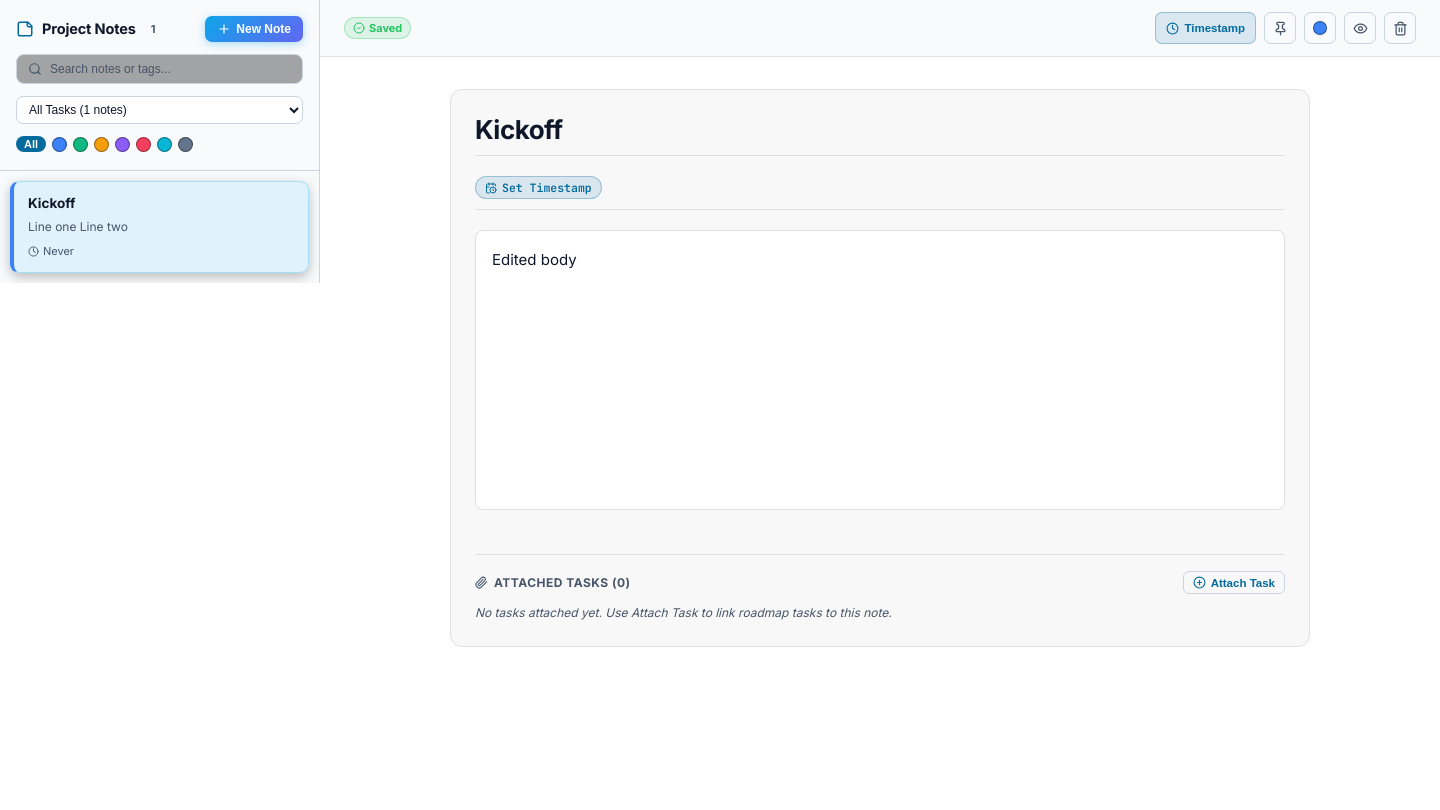
it: NotesView › commits only the edited field onto the latest plan, never a stale snapshot
Clear the field with class "note-contenteditable-surface": {"x": 880, "y": 370} [475,230,1285,510]
Wait 400 ms
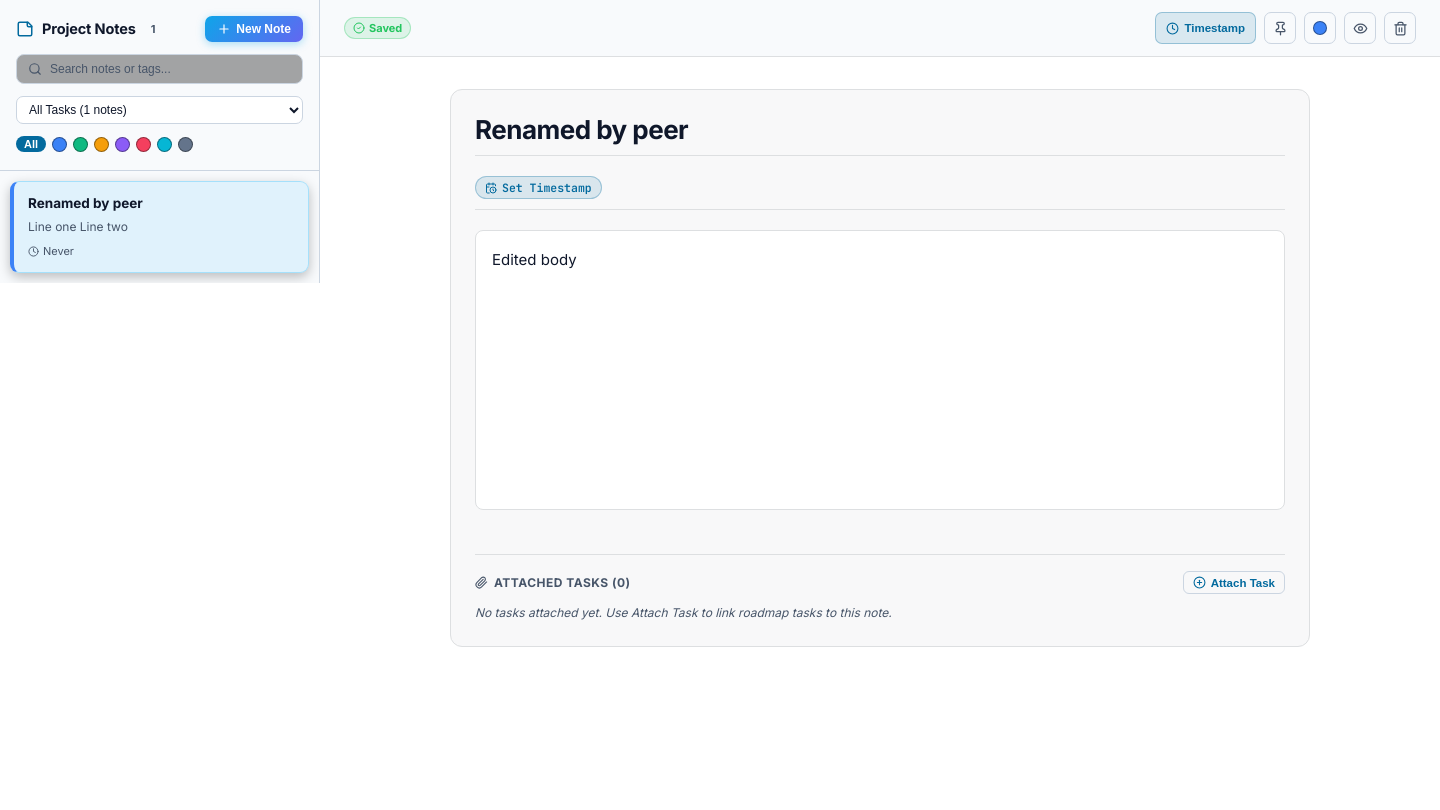
Check: the button "Renamed by peer" reads "Renamed by peer", box [28,195,268,211]
